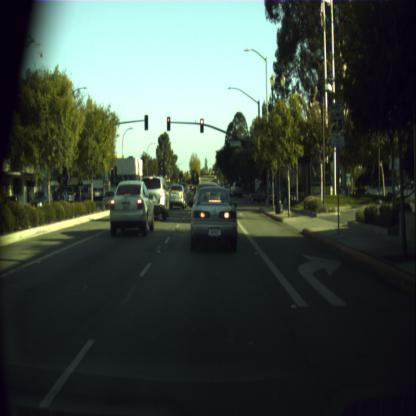Red: (166, 116, 170, 130), (110, 165, 113, 176), (200, 118, 202, 132), (205, 170, 207, 177)
